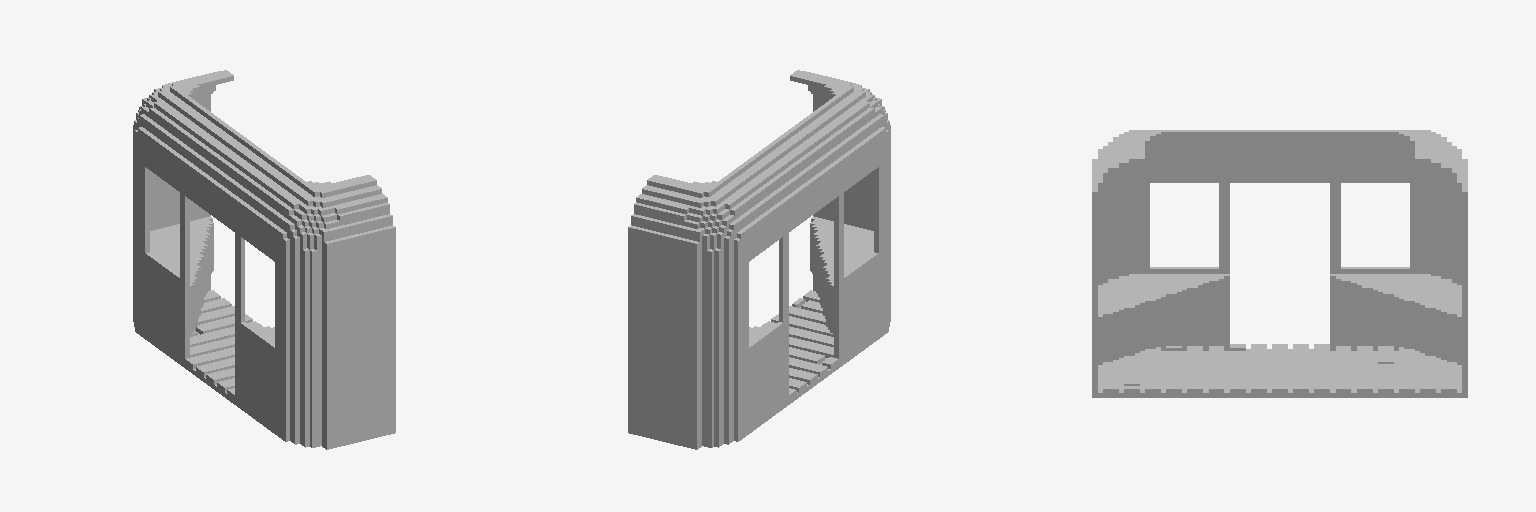
File: Train Car Back.obj
3 views of the same model, side by side, from view 1: azimuth 30°, elevation 25°; view 2: azimuth 150°, elevation 25°; view 3: azimuth 270°, elevation 25° (orthographic).
Visible parts, largest first — view 1: object 1; view 2: object 1; view 3: object 1.
Part boxes in pixels (x1,y1,x2,y2): object 1: (133, 70, 395, 449); object 1: (628, 70, 890, 449); object 1: (1092, 130, 1467, 397).
Bounding box in the file's own units: 2 × 5 × 7.1.